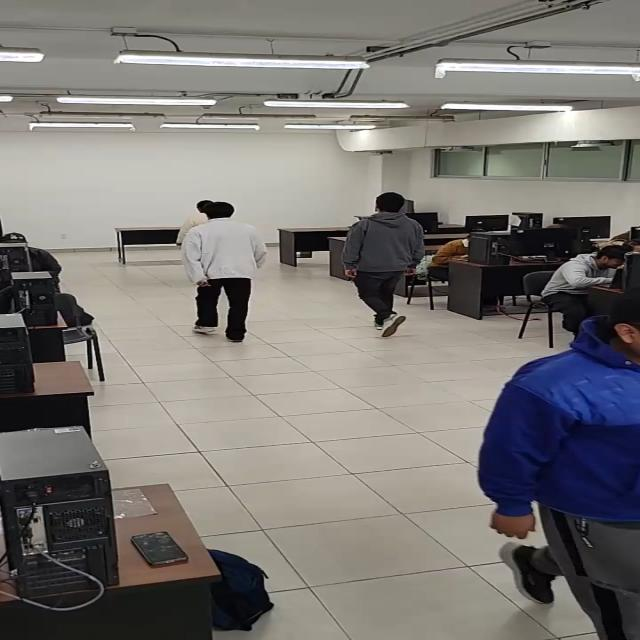Persona: (489, 294, 640, 640), (342, 188, 427, 345), (178, 197, 266, 345)
